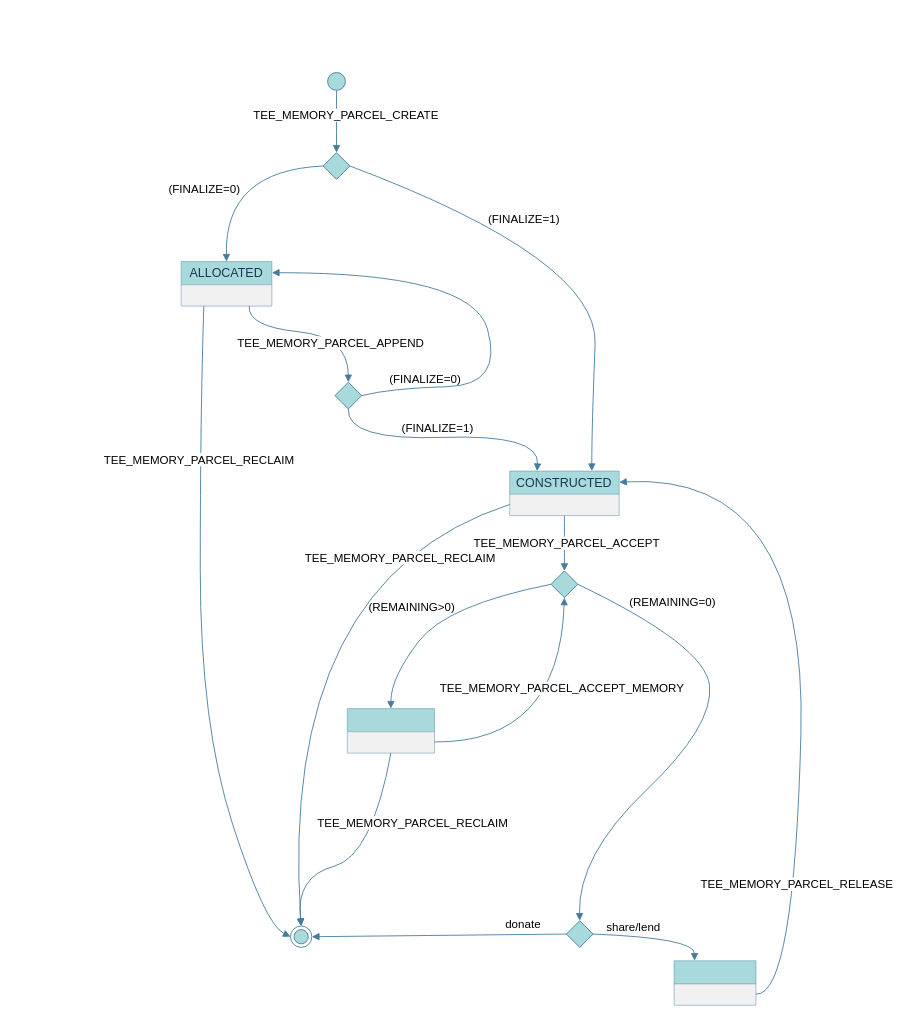
This 908x1021 diagram has some shape labels left out. Here are the shapes that lost their labels. From the top down, the box of each, then its label:
(347, 708, 434, 753): ACCEPTING
(673, 960, 756, 1005): ACCEPTED
